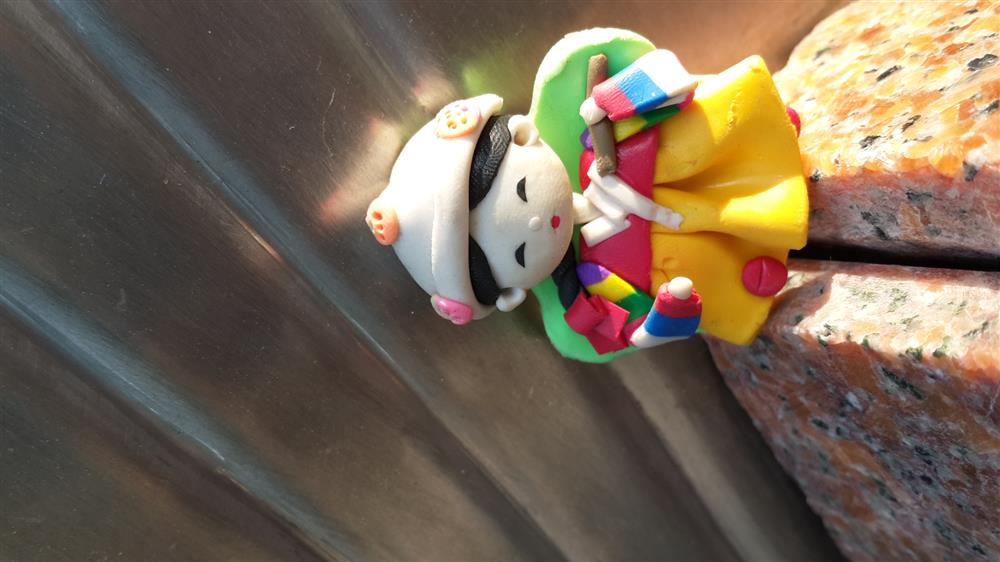clay_figurine: (370, 21, 820, 369)
